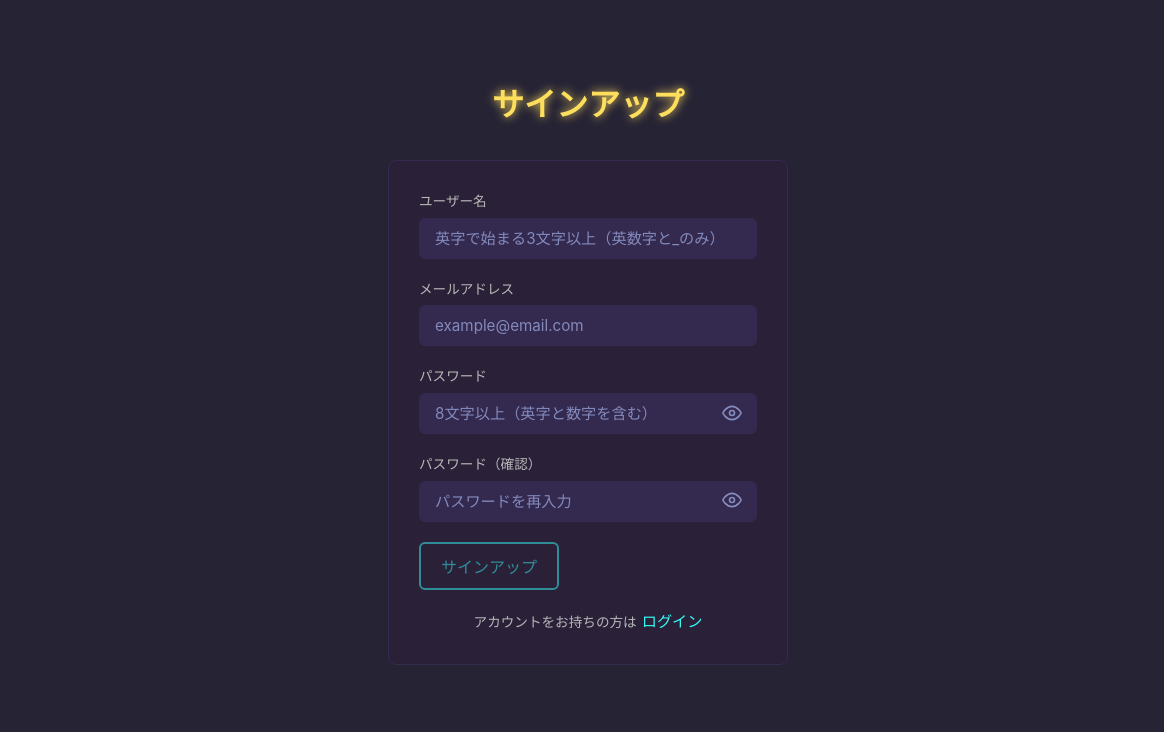
Test: SignupPage - Signup Success › verifies signup arguments and localStorage storage on success
Type "newuser" into the field labelled "ユーザー名".
click(588, 238); type("newuser")  # box [419,218,757,259]
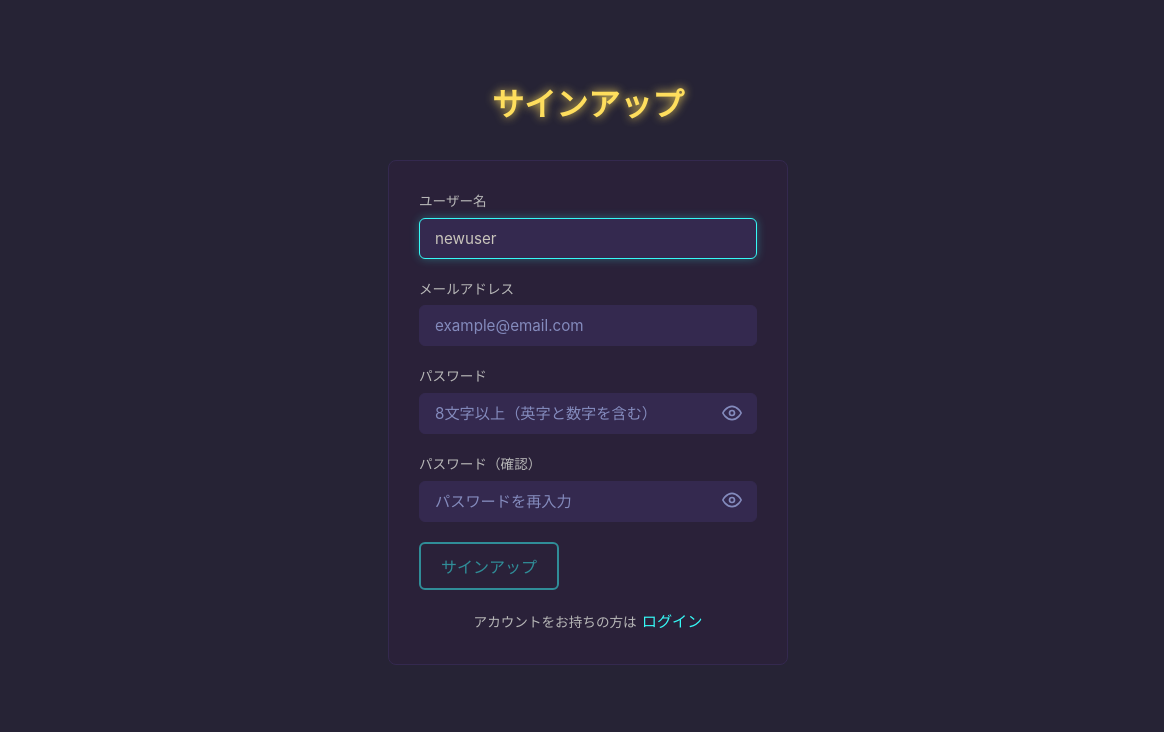
Type "test@example.com" into the field labelled "メールアドレス".
click(588, 326); type("test@example.com")  # box [419,305,757,346]
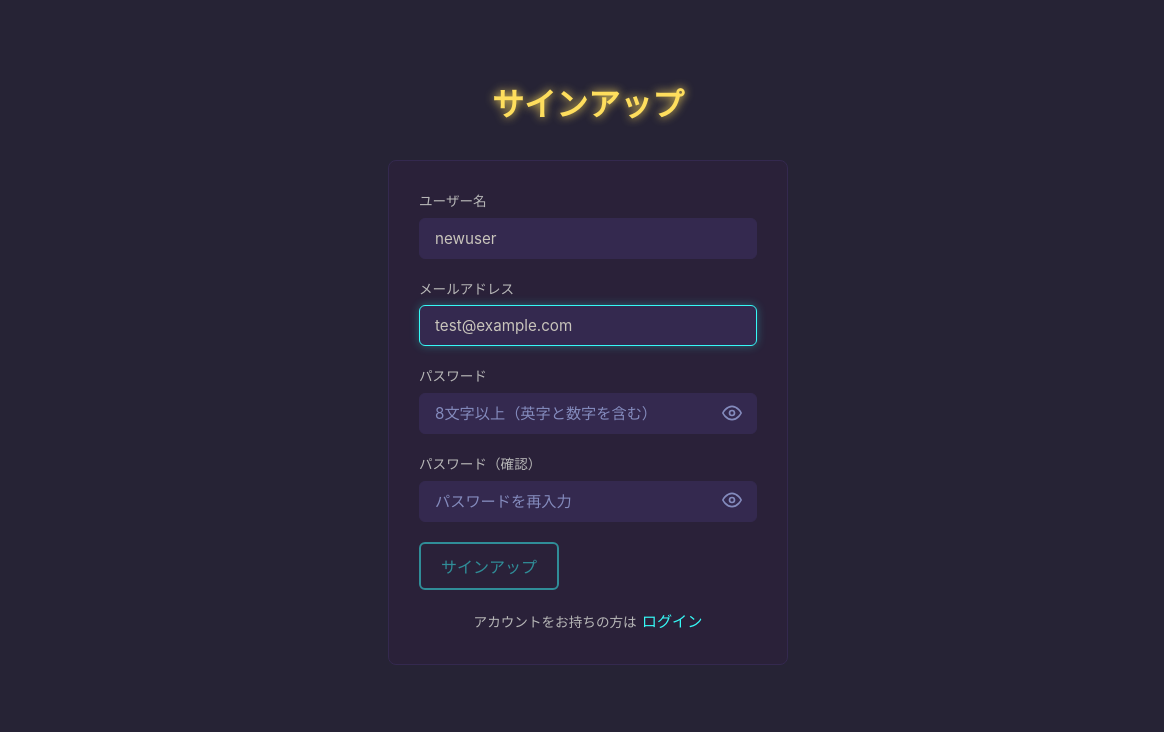
Type "securepassword123" into the password field labelled "パスワード".
click(588, 414); type("securepassword123")  # box [419,393,757,434]
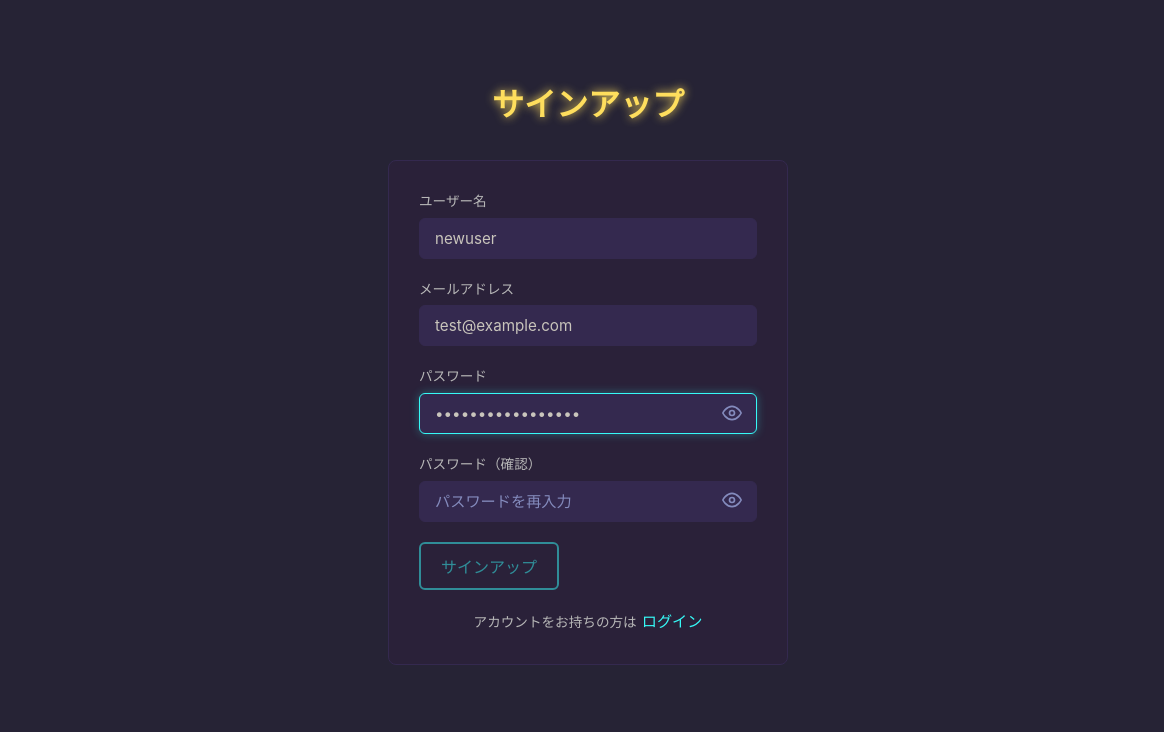
Type "securepassword123" into the password field labelled "パスワード（確認）".
click(588, 501); type("securepassword123")  # box [419,481,757,522]
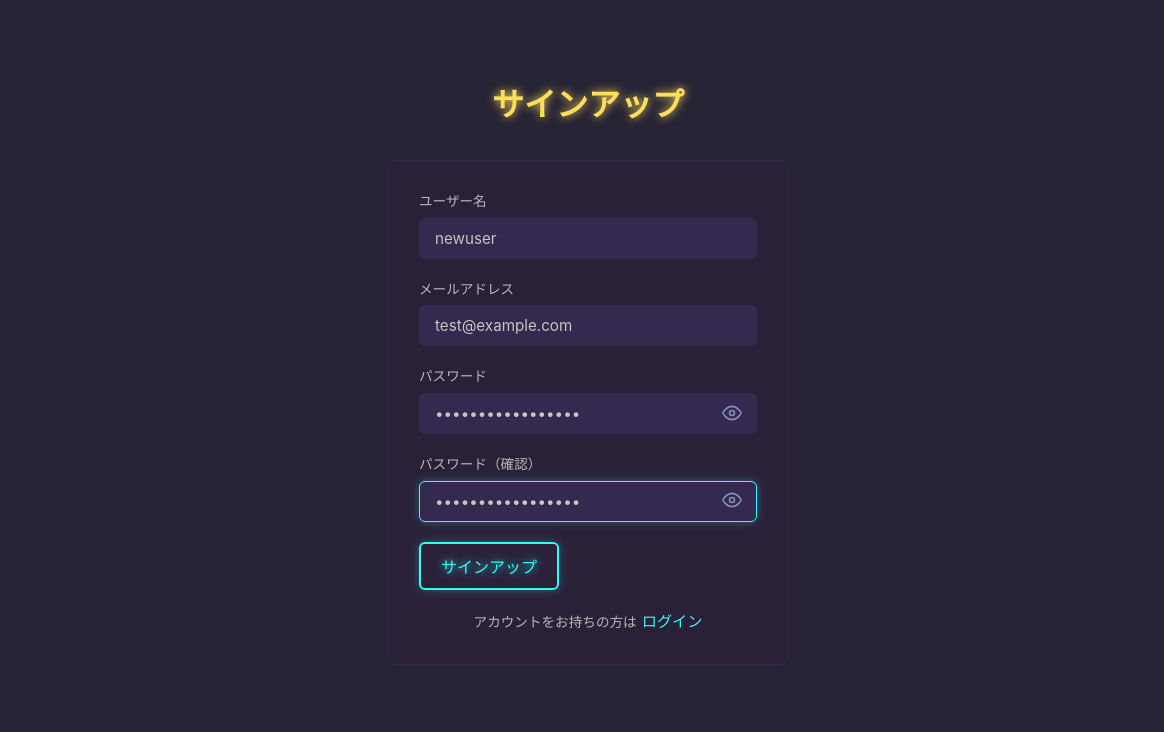
Click the button "サインアップ".
click(489, 566)  # box [419,542,559,590]
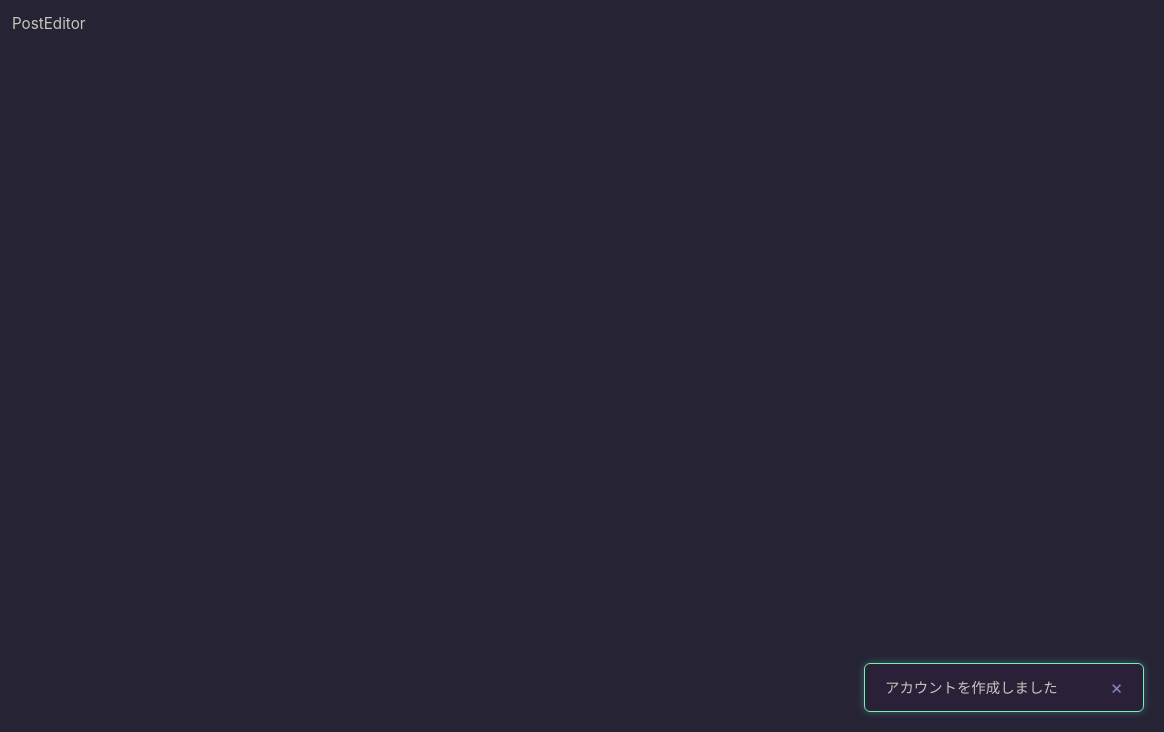
Check: the message shows "アカウントを作成しました", box [885,679,1058,696]
